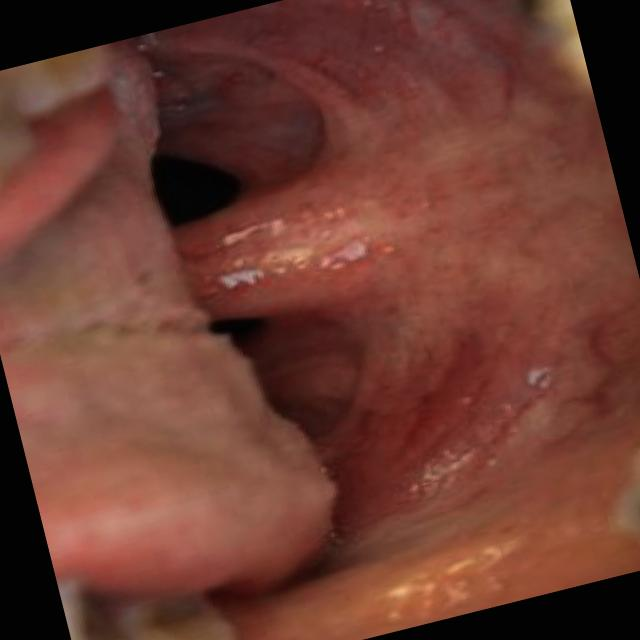Non Pharyngitis: (249, 293, 490, 546), (130, 0, 381, 204)
